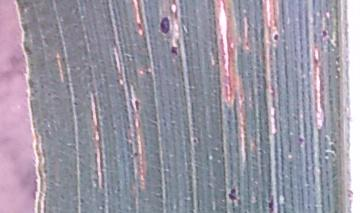tarspot: (157, 15, 173, 38), (227, 184, 241, 208), (265, 192, 278, 213), (168, 42, 180, 64), (131, 96, 142, 114), (321, 26, 331, 44), (271, 28, 281, 44), (297, 132, 306, 149), (189, 135, 200, 147), (132, 150, 141, 161), (72, 101, 80, 108)
